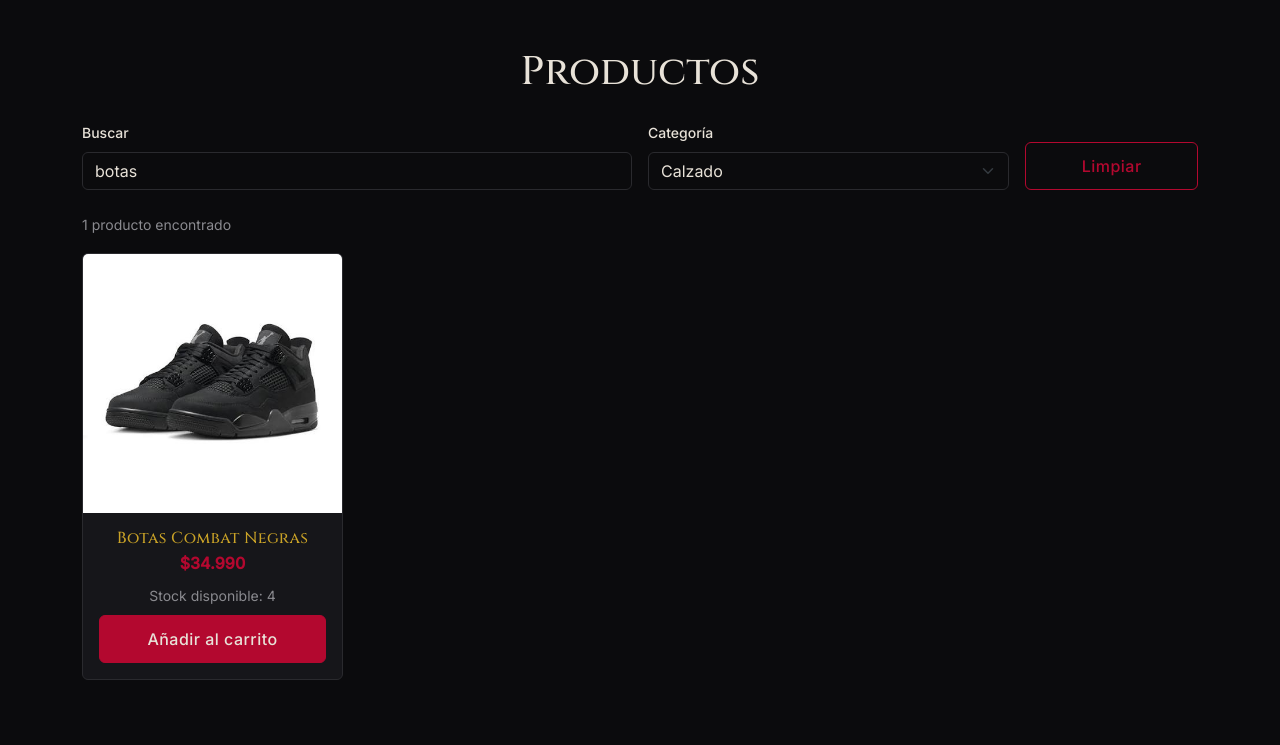
Productos (lista y filtros) › el botón Limpiar quita los filtros y vuelve a mostrar todo
Expected: the number of elements with class "card-producto" is 1, [82,253,343,680]
Click the button "Limpiar": click(1112, 166) [1025,142,1198,190]
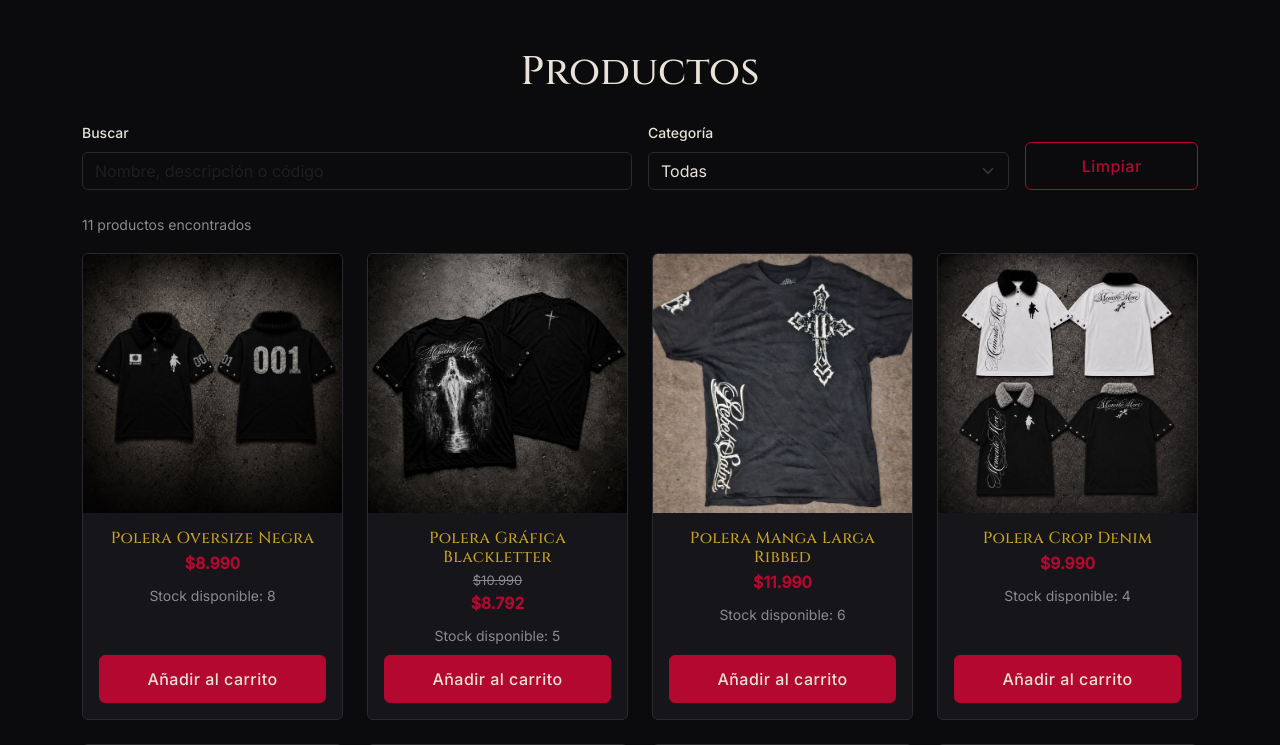
Expected: the number of elements with class "card-producto" is 11
